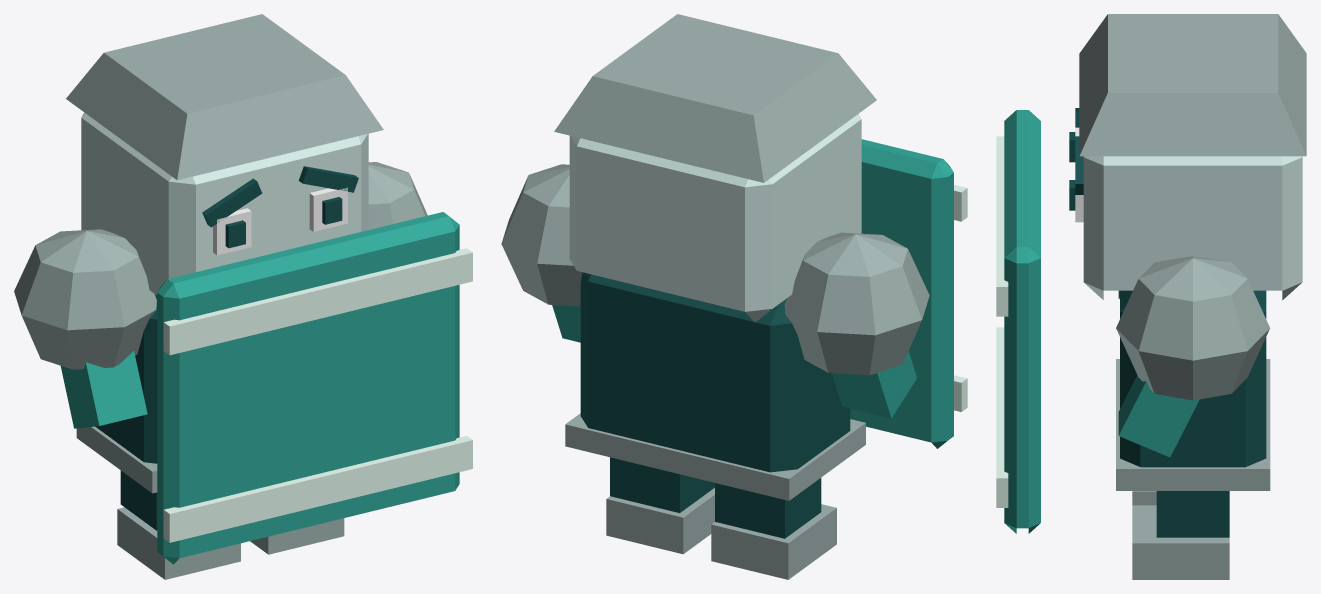
The model's file is brute_r14.glb.
3 views of the same model, side by side, from view 1: azimuth 30°, elevation 25°; view 2: azimuth 150°, elevation 25°; view 3: azimuth 270°, elevation 25° (orthographic). The views are drawn at different scales.
Parts seen in each view (by area): view 1: brute_r14_mesh; view 2: brute_r14_mesh; view 3: brute_r14_mesh.
Part boxes in pixels (x1,y1,x2,y2): brute_r14_mesh: (14, 14, 472, 579); brute_r14_mesh: (501, 14, 967, 579); brute_r14_mesh: (996, 14, 1306, 579).
Size of the model in its own units: 1.98 by 2.2 by 1.28.
1 material, 1 textured.
